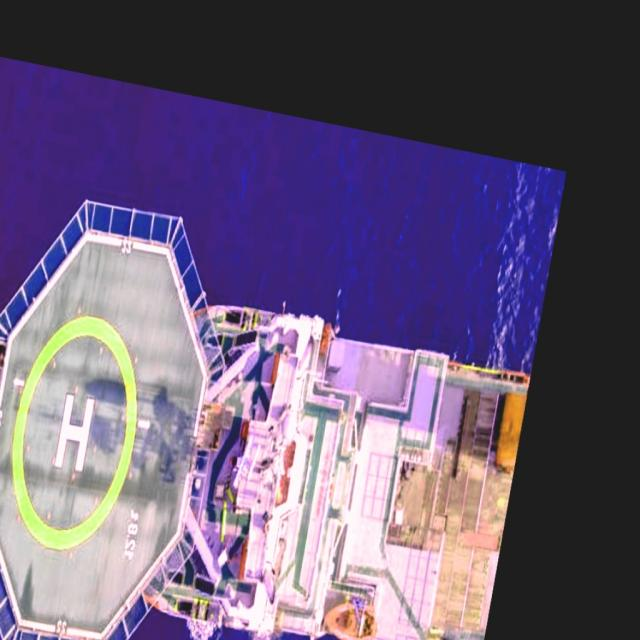helipad: (6, 312, 143, 552)
